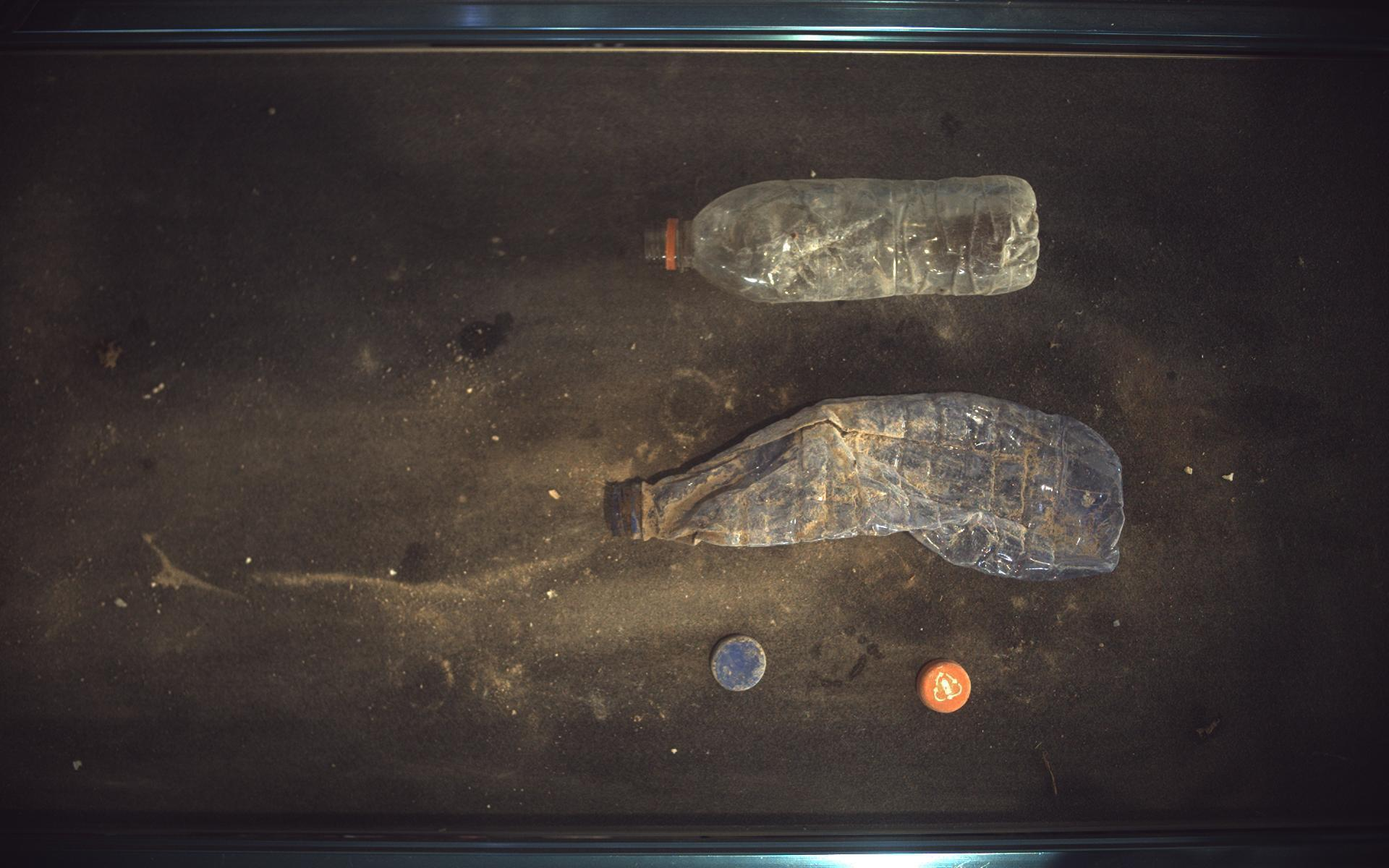general_w: (605, 393, 1127, 581), (645, 175, 1042, 302), (712, 637, 768, 692), (919, 660, 972, 715)
